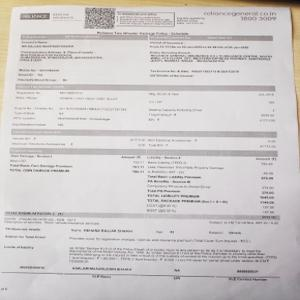image: (16, 11, 52, 23)
table: (5, 149, 280, 215), (14, 33, 275, 83), (13, 85, 278, 130), (9, 130, 278, 151)
text: (1, 216, 281, 274)
